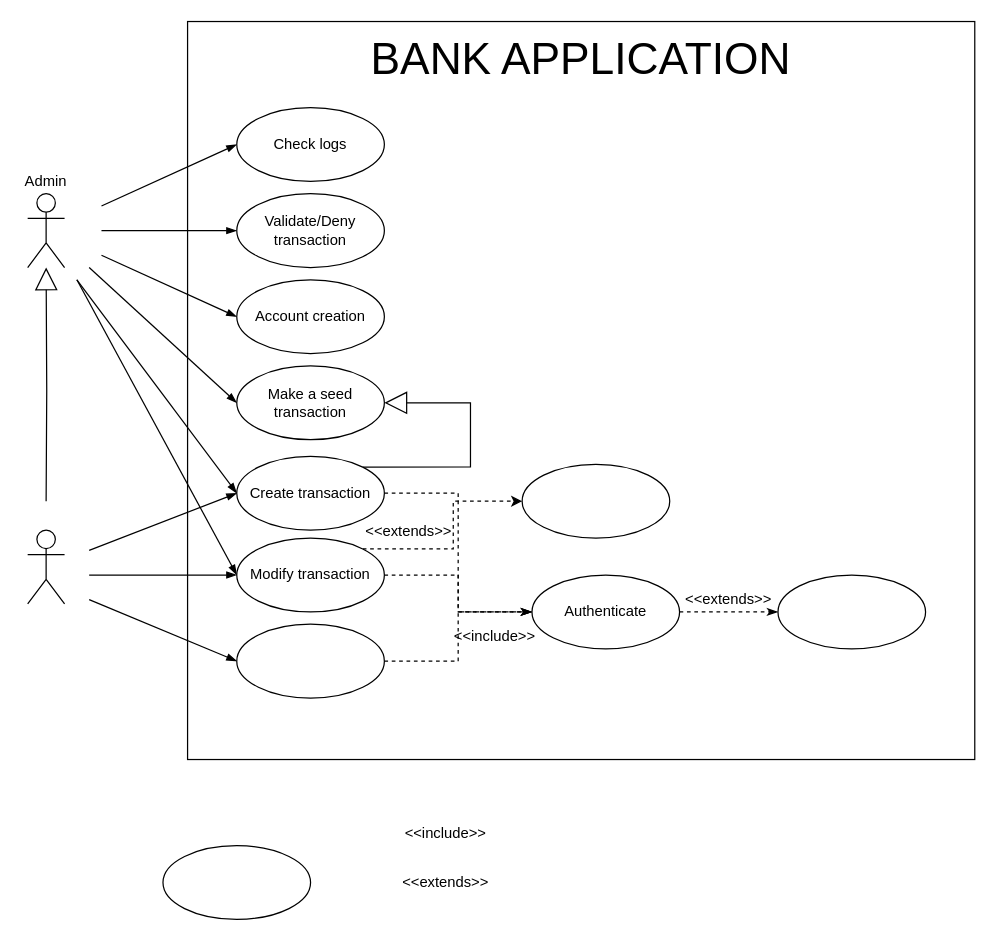
Image size: 996x941. Some labels were removed from this diagram. The centre of each missing label's shape, as x and y in pixels:
Authentication error: the point at 851,611
Check balance: the point at 310,660
Delete transaction: the point at 595,500
User: the point at 45,566
